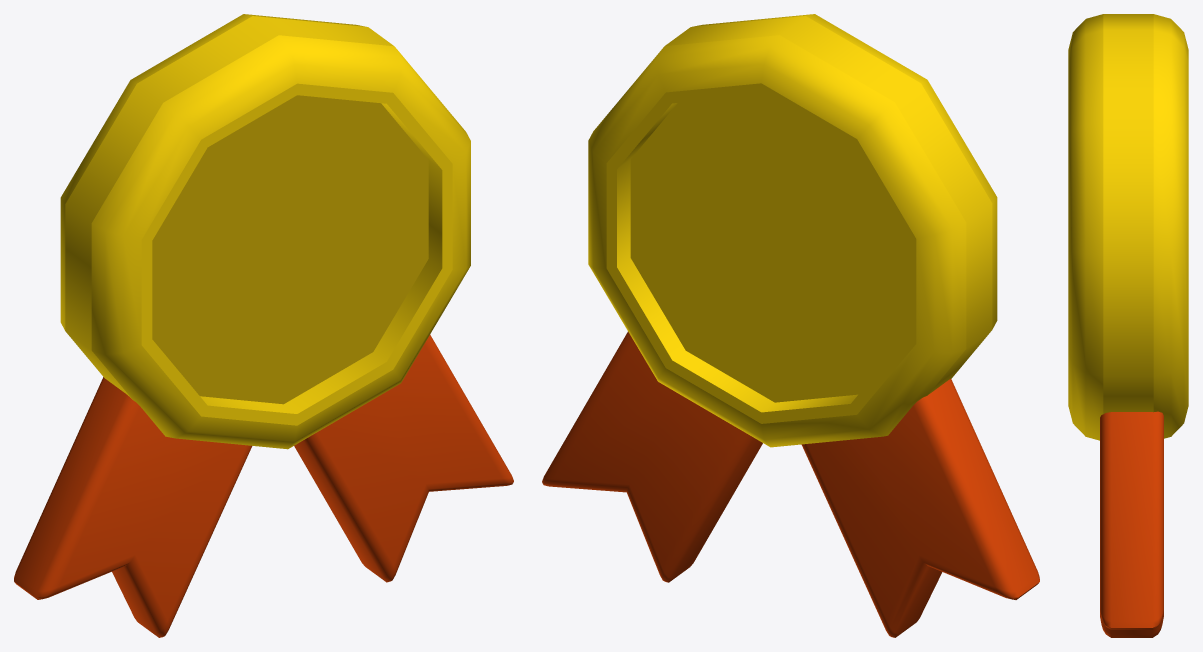
File: Medal_4.fbx
The picture shows the model from 3 angles, left to right: view 1: azimuth 30°, elevation 25°; view 2: azimuth 150°, elevation 25°; view 3: azimuth 270°, elevation 25°; orthographic projection. The views are drawn at different scales.
Visible parts, largest first — view 1: Medal_4; view 2: Medal_4; view 3: Medal_4.
Boxes of the visible parts, box(x1,y1,x2,y2) form: Medal_4: box(14, 14, 513, 637); Medal_4: box(542, 14, 1039, 637); Medal_4: box(1068, 14, 1188, 637).
Bounding box in the file's own units: 0.2168 × 0.2502 × 0.0494.
